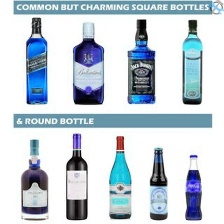bottle: (24, 16, 52, 107)
